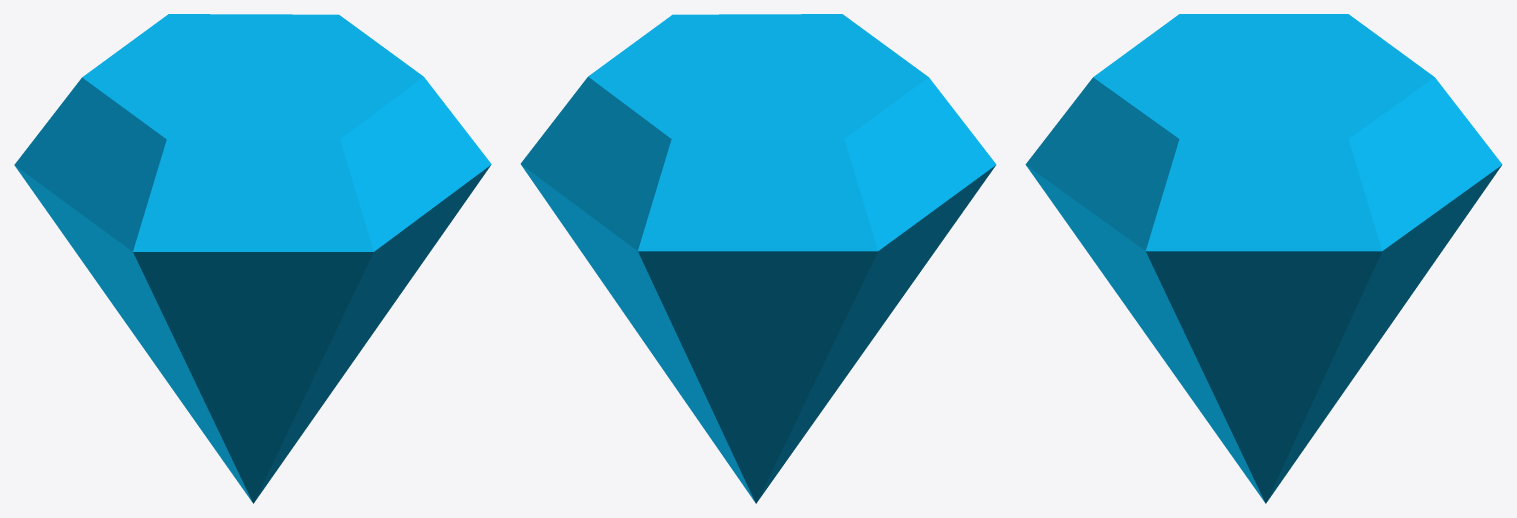
The model's file is pessimism.glb.
3 renders of one model, left to right at view 1: azimuth 30°, elevation 25°; view 2: azimuth 150°, elevation 25°; view 3: azimuth 270°, elevation 25°, orthographic.
Visible parts, largest first — view 1: ziran.821; view 2: ziran.821; view 3: ziran.821.
Boxes of the visible parts, x1,y1,x2,y2 form: ziran.821: (14,14,491,503); ziran.821: (520,14,996,503); ziran.821: (1025,14,1502,503).
Bounding box in the file's own units: 0.3692 × 0.4208 × 0.4263.
1 material, 1 textured.
